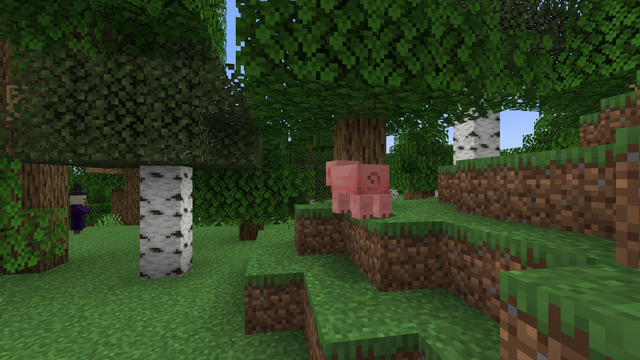cochons: (328, 162, 391, 217)
sorcieres: (68, 193, 88, 234)
